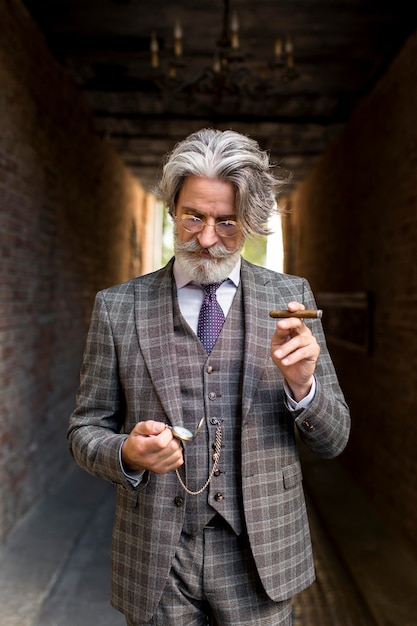cigarette: (271, 306, 325, 318)
